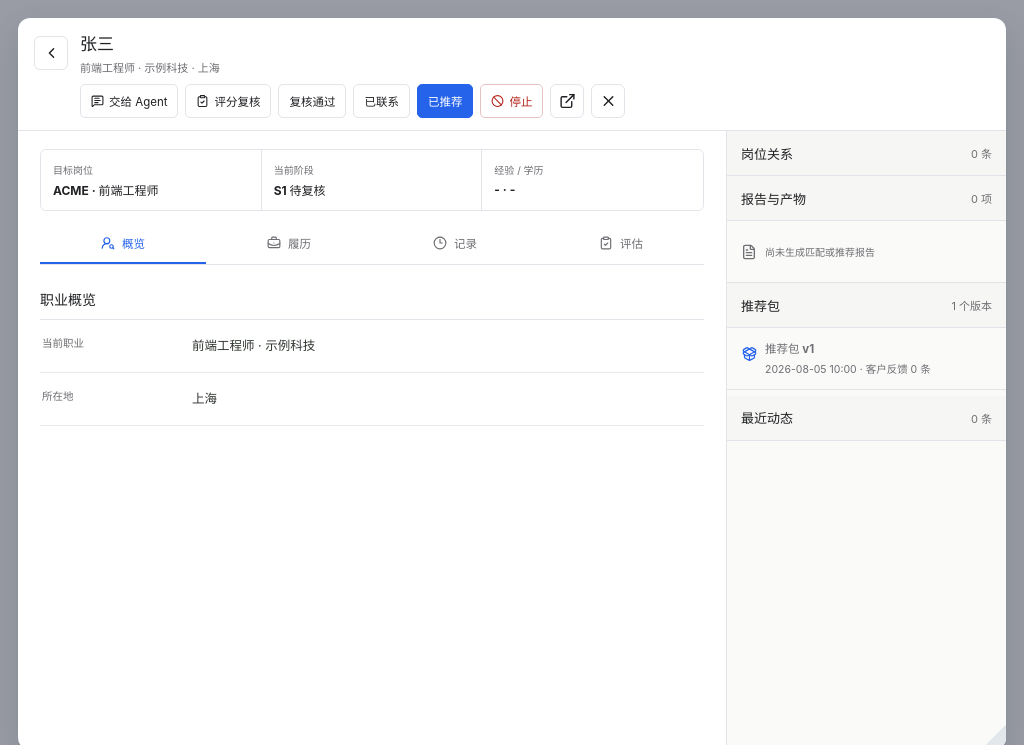
版本化推荐包（recommendation-packages） › 无当前评估时如实呈现证据缺失，不伪造人岗证据
Click the button with aria-label "查看推荐包 v1": (787, 349) [727, 328, 1006, 390]
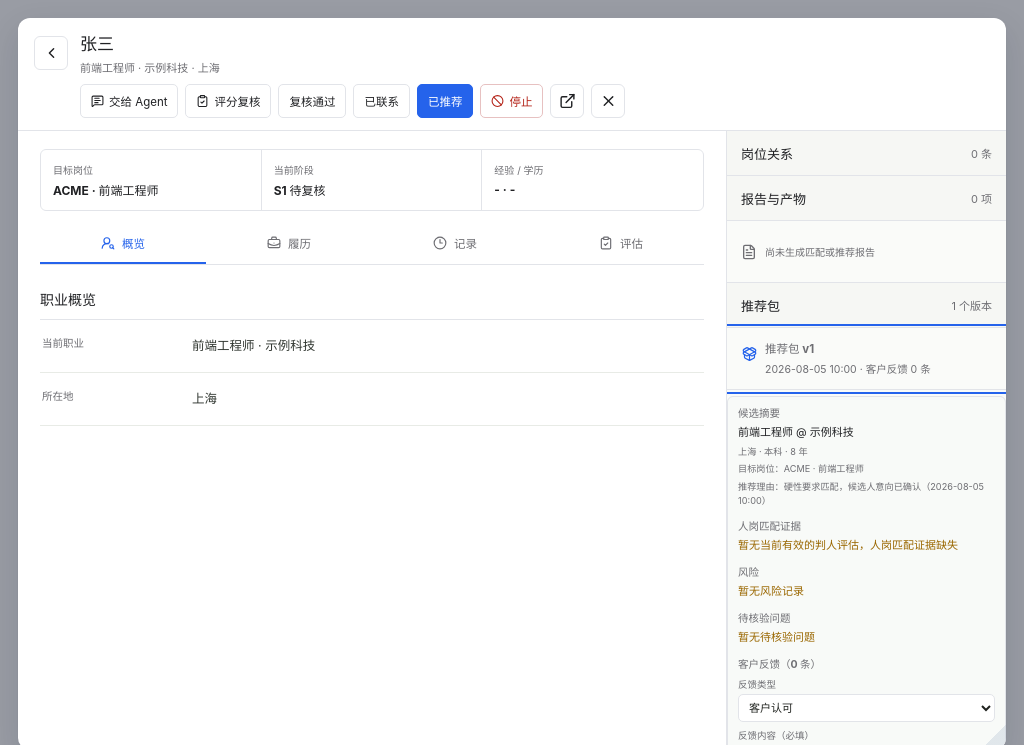
Result: the text "暂无当前有效的判人评估，人岗匹配证据缺失" is shown at [738, 537, 995, 554]
Result: the text "暂无风险记录" is shown at [738, 584, 804, 598]
Result: the text "暂无待核验问题" is shown at [738, 630, 815, 644]
